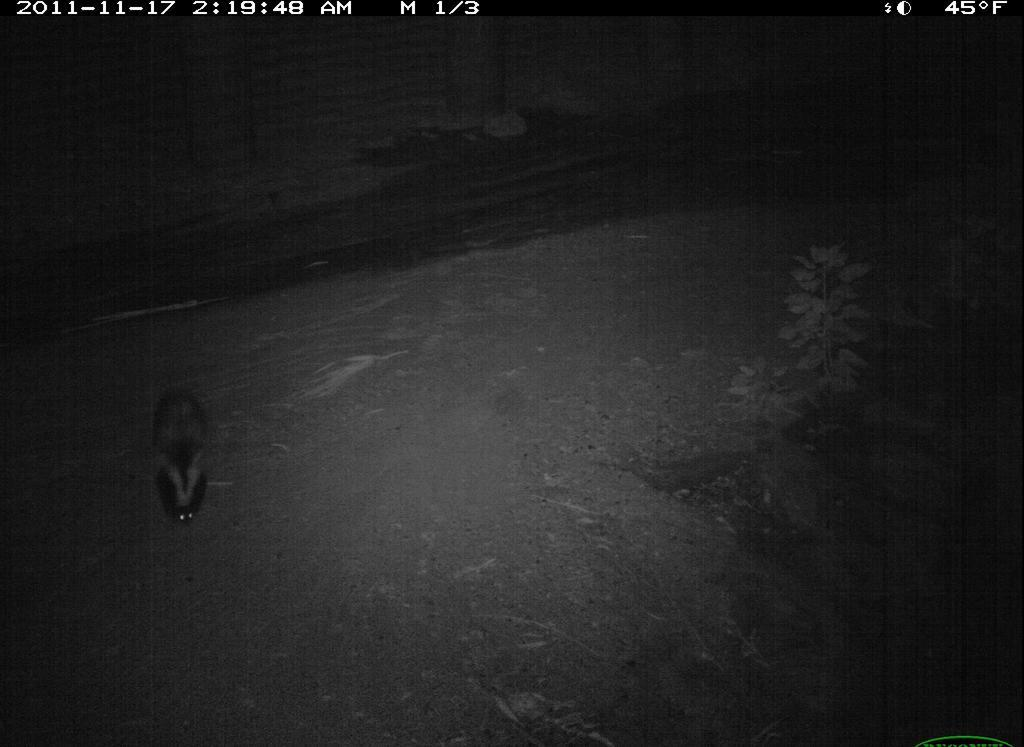skunk: (137, 382, 218, 534)
